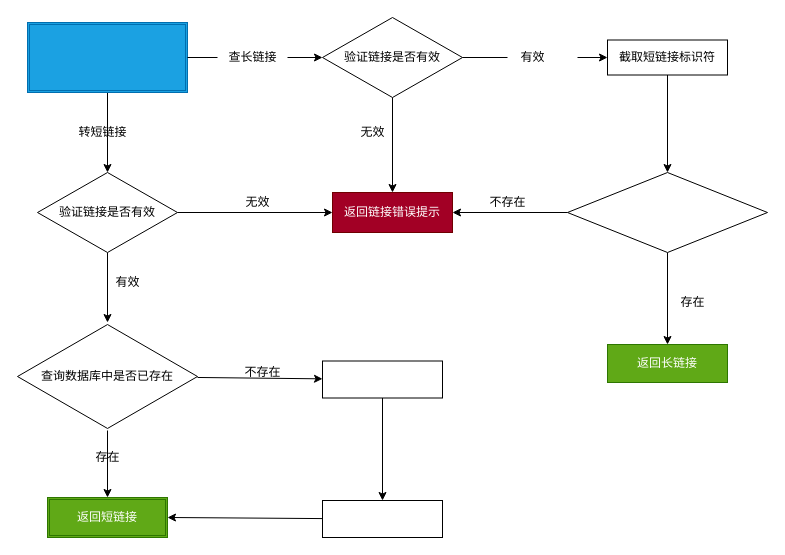
Some shapes in this 785 by 555 pixel diagram are drawn without their labels. The centre of each missing label's shape, as x and y in pixels:
"客户端提供链接" goes at point 107,57.
"根据标识符查询长链接" goes at point 667,212.
"生成7位随机字符串作为短链接标识符" goes at point 382,379.
"连同长链接一起存入数据库" goes at point 382,519.
